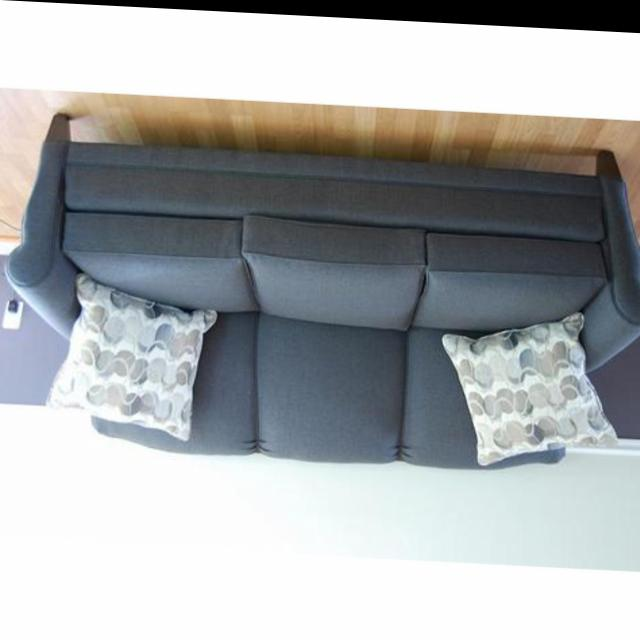Sofa: (5, 114, 640, 474)
